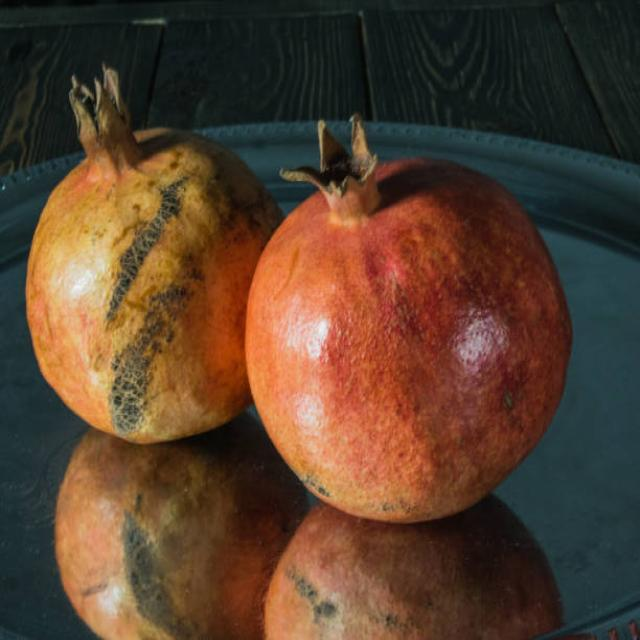overripe: (244, 93, 578, 526), (19, 63, 250, 447)
